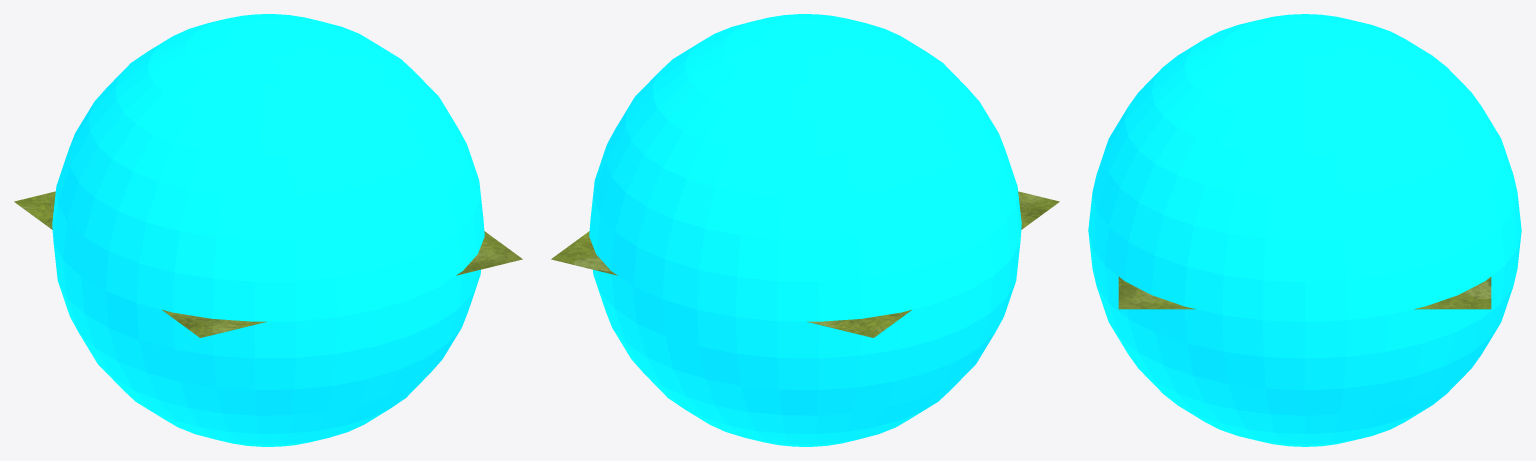
File: racing_map_1.glb
3 renders of one model, left to right at view 1: azimuth 30°, elevation 25°; view 2: azimuth 150°, elevation 25°; view 3: azimuth 270°, elevation 25°, orthographic.
Visible parts, largest first — view 1: Skybox, Cube; view 2: Skybox, Cube; view 3: Skybox, Cube.
Boxes of the visible parts, bbox=[...] form: Skybox: bbox=[52, 14, 484, 446]; Cube: bbox=[14, 191, 522, 337]; Skybox: bbox=[589, 14, 1021, 446]; Cube: bbox=[551, 191, 1059, 337]; Skybox: bbox=[1088, 14, 1521, 446]; Cube: bbox=[1118, 277, 1491, 309].
Size of the model in its own units: 747 by 747 by 747.
Materials: 19 (1 with a texture image).
